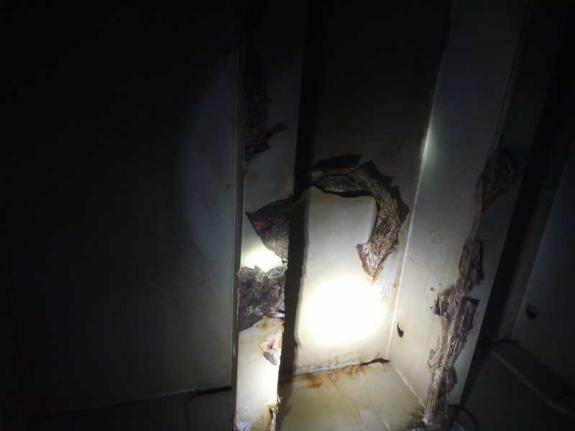corrosion: (214, 60, 295, 179), (461, 155, 528, 276), (296, 141, 416, 206), (226, 255, 291, 363), (425, 292, 478, 404), (233, 196, 310, 262), (364, 193, 413, 292)
